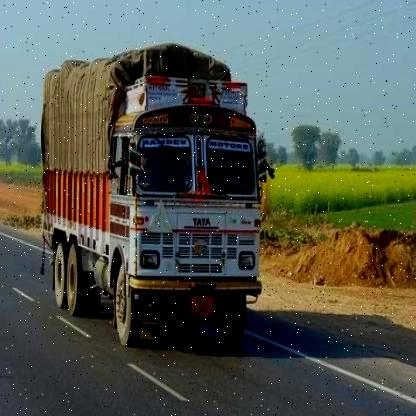truck: (31, 33, 284, 355)
